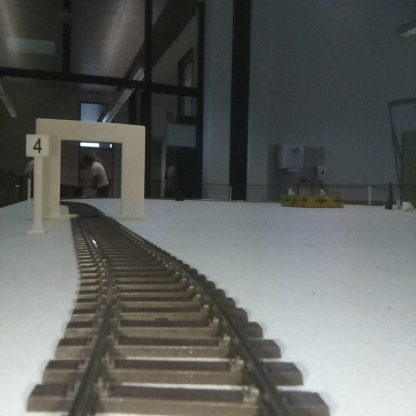white-info-4: (26, 134, 48, 238)
